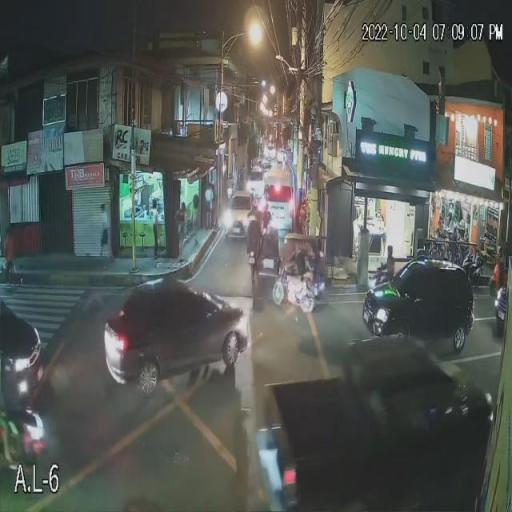helmet: (386, 244, 394, 257)
motorcycle: (368, 265, 384, 288)
rider: (384, 257, 396, 279)
